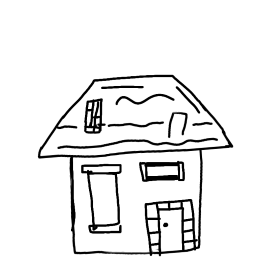bottom_placed_house: (1, 1, 260, 260)
chimney: (161, 106, 193, 140), (80, 97, 105, 138)
door: (141, 196, 202, 260)
open_window: (79, 160, 125, 236), (133, 158, 188, 186)
roof: (36, 67, 237, 160)
wall: (63, 143, 205, 260)
